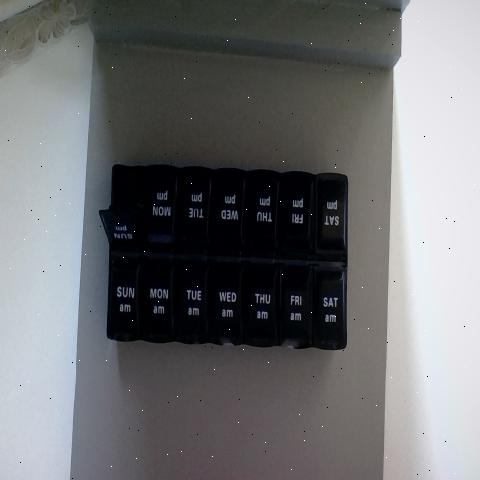FRI-am: (282, 272, 310, 349)
FRI-pm: (278, 178, 312, 265)
MON-am: (146, 259, 180, 340)
MON-pm: (145, 172, 178, 254)
Open: (109, 169, 142, 243)
PillBox: (97, 120, 360, 380)
SAT-am: (311, 268, 346, 350)
SAT-pm: (312, 177, 348, 260)
SUN-am: (110, 254, 142, 340)
THU-am: (244, 264, 277, 347)
THU-pm: (241, 178, 277, 256)
TUE-am: (180, 260, 211, 341)
TUE-pm: (180, 174, 212, 251)
WED-am: (210, 261, 243, 344), (211, 171, 242, 251)
